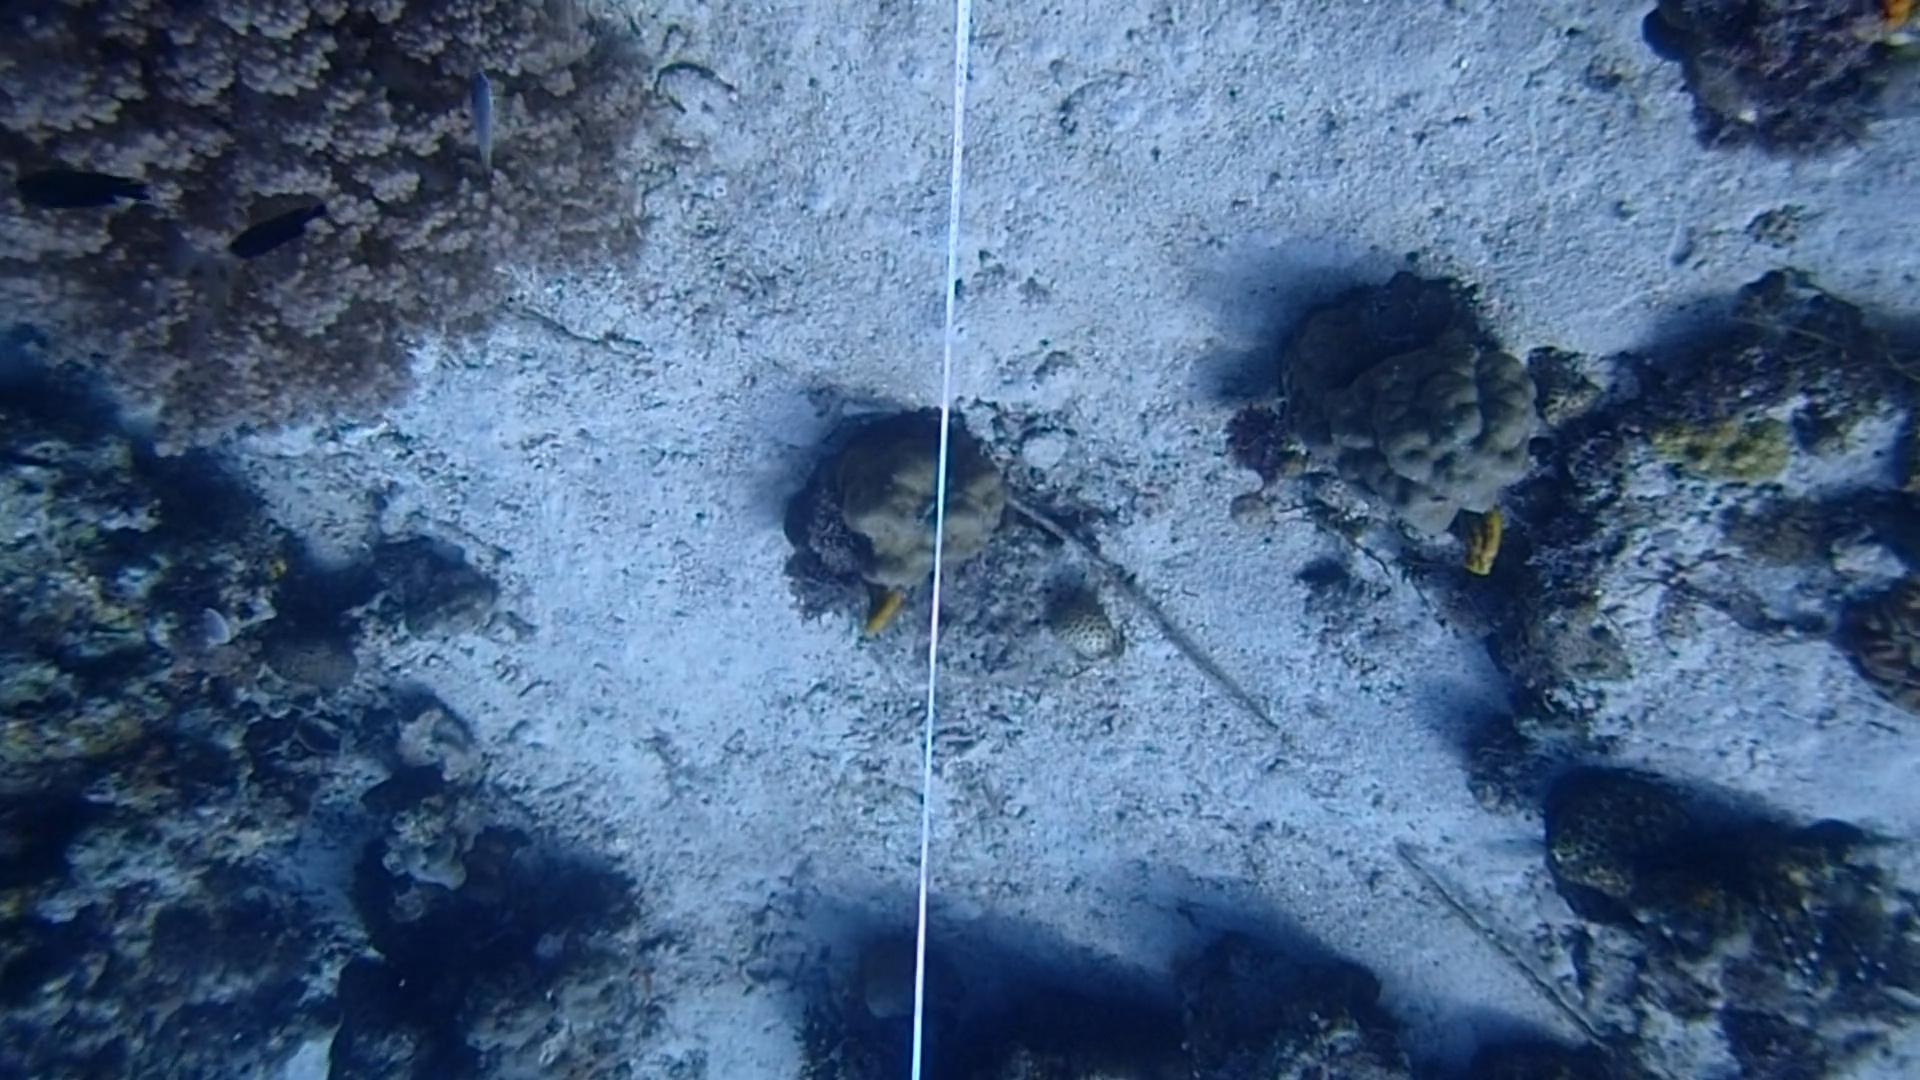Dark Fish: (219, 193, 339, 282), (12, 150, 153, 224)
Light Fish: (454, 62, 518, 173)
